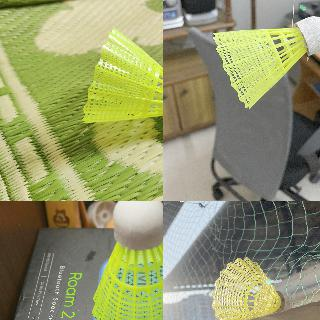shuttlecock: (213, 16, 319, 109), (81, 24, 162, 129), (92, 201, 162, 319), (211, 257, 292, 319)
